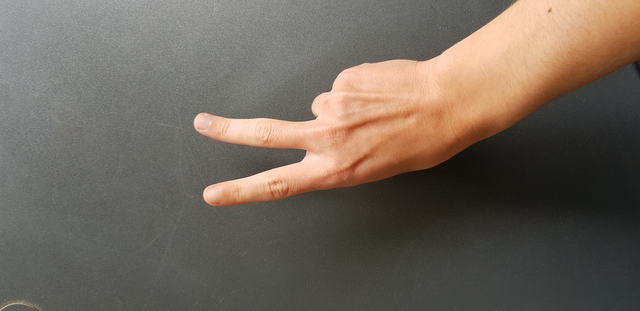Scissors: (166, 50, 472, 223)
